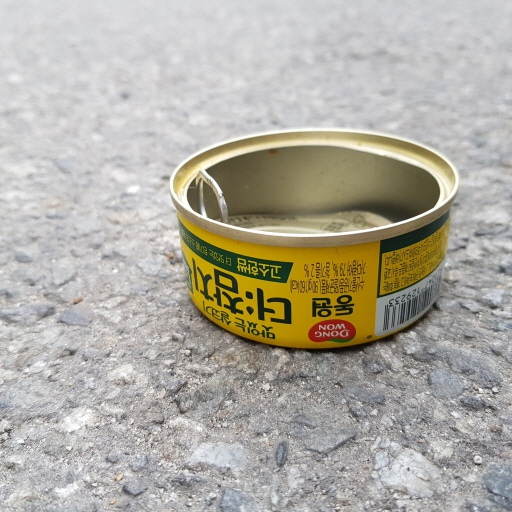Metal_1: (168, 122, 461, 347)
